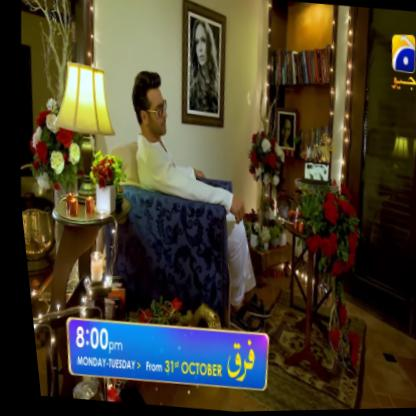Sofa: (81, 139, 245, 328)
Table: (263, 218, 352, 385)
